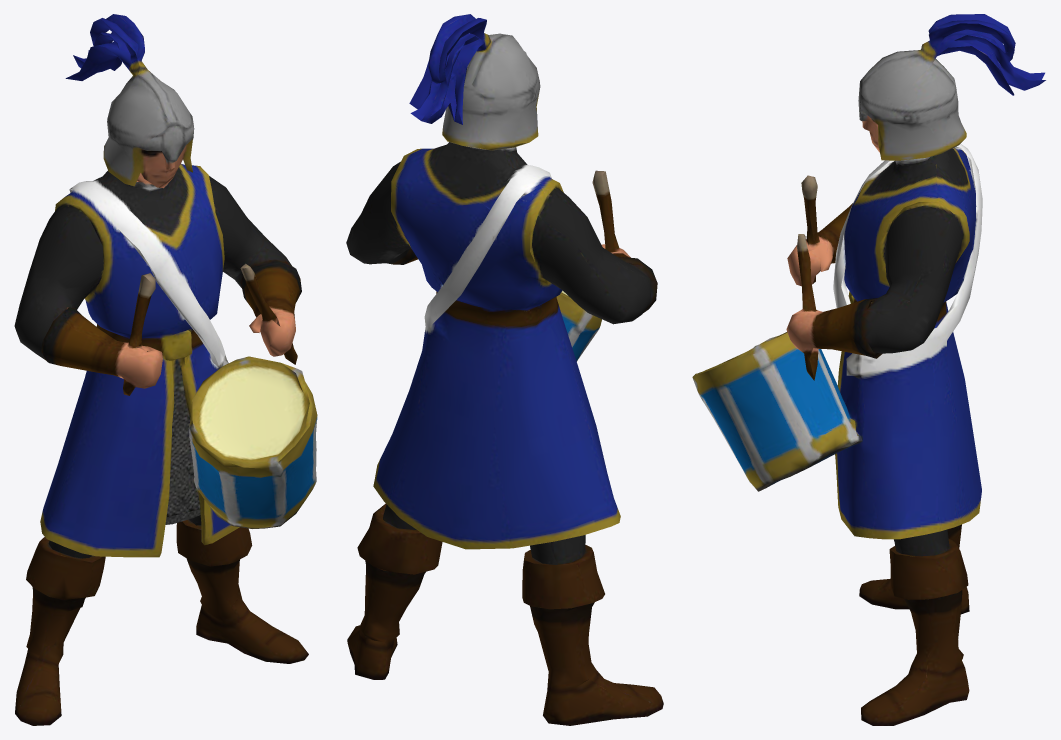
File: musician.glb
3 renders of one model, left to right at view 1: azimuth 30°, elevation 25°; view 2: azimuth 150°, elevation 25°; view 3: azimuth 270°, elevation 25°, orthographic. The views are drawn at different scales.
Visible parts, largest first — view 1: world; view 2: world; view 3: world.
Boxes of the visible parts, x1,y1,x2,y2 form: world: [14, 14, 317, 725]; world: [346, 14, 663, 725]; world: [692, 14, 1045, 725].
Bounding box in the file's own units: 0.4701 × 1 × 0.5017.
Materials: 1 (1 with a texture image).
